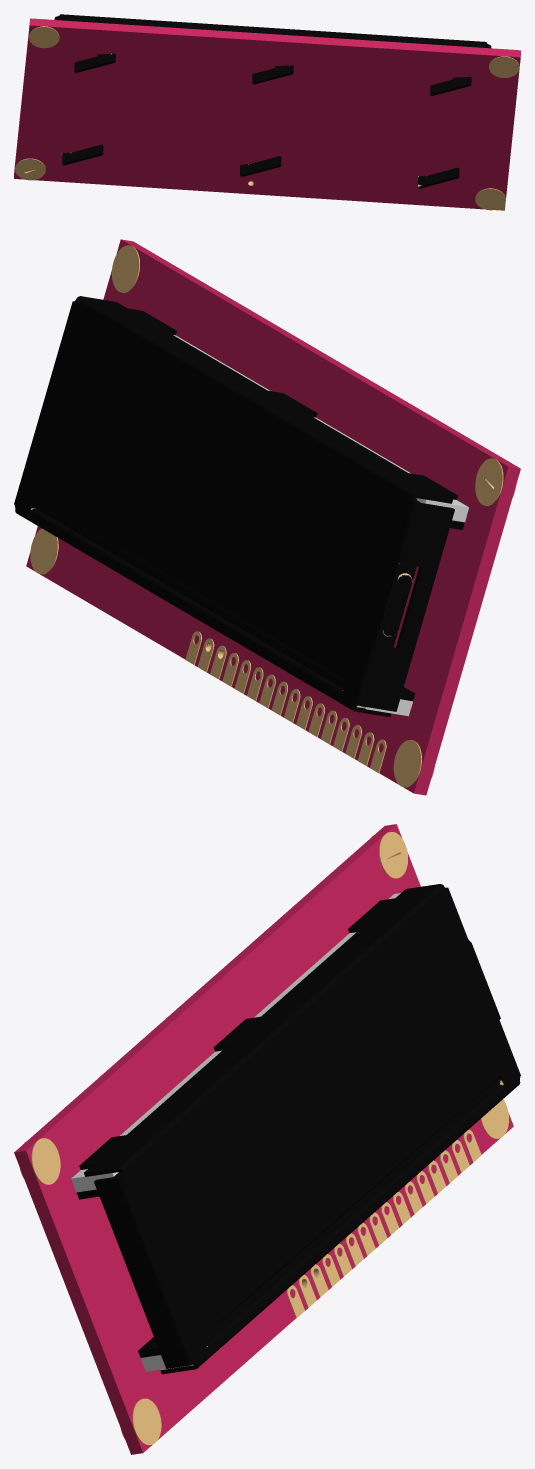
The model's file is lcd_screen.fbx.
The picture shows the model from 3 angles, top to bottom: view 1: azimuth 30°, elevation 25°; view 2: azimuth 150°, elevation 25°; view 3: azimuth 270°, elevation 25°; orthographic projection. The views are drawn at different scales.
Parts seen in each view (by area): view 1: 1602 LCD; view 2: 1602 LCD; view 3: 1602 LCD.
Boxes of the visible parts, box(x1,y1,x2,y2) form: 1602 LCD: box(14, 14, 520, 210); 1602 LCD: box(14, 239, 520, 795); 1602 LCD: box(14, 824, 520, 1454).
Bounding box in the file's own units: 7433 × 4006 × 5389.
